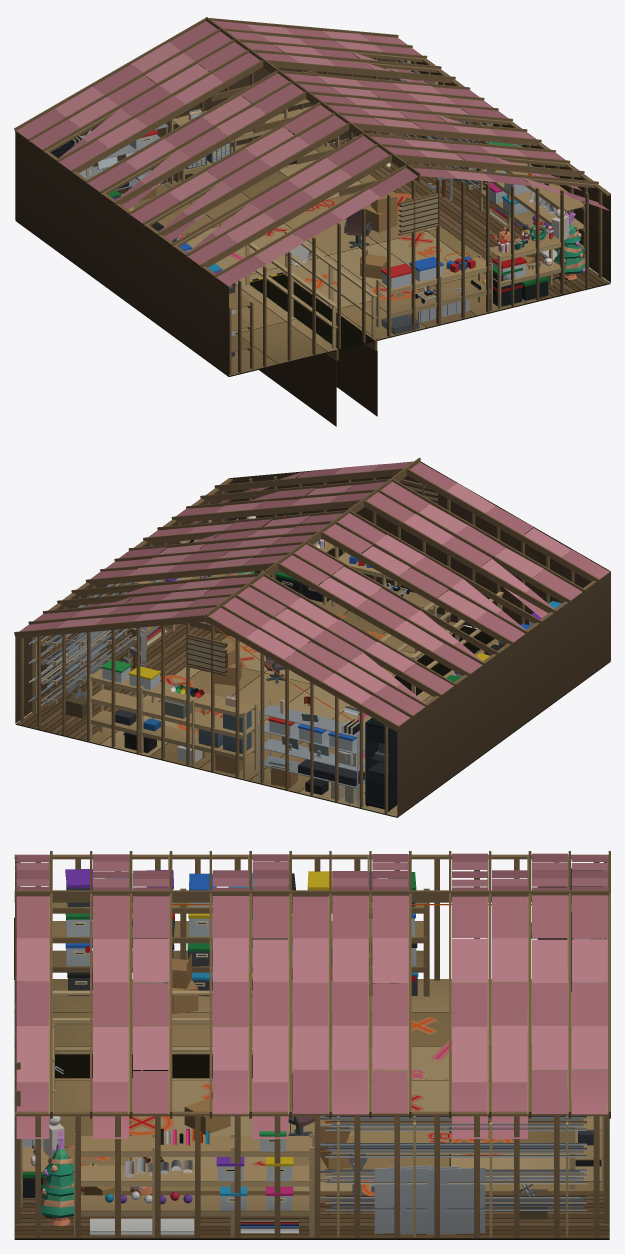
File: attic.glb
The picture shows the model from 3 angles, top to bottom: view 1: azimuth 30°, elevation 25°; view 2: azimuth 150°, elevation 25°; view 3: azimuth 270°, elevation 25°; orthographic projection. The views are drawn at different scales.
Parts seen in each view (by area): view 1: room, glow_room; view 2: room, glow_room; view 3: room.
Part boxes in pixels (<box>): room: <box>14,17,610,426</box>; glow_room: <box>205,68,437,292</box>; room: <box>14,457,610,817</box>; glow_room: <box>188,481,437,714</box>; room: <box>14,851,610,1239</box>.
Bounding box in the file's own units: 9.44 × 5.54 × 9.13.
